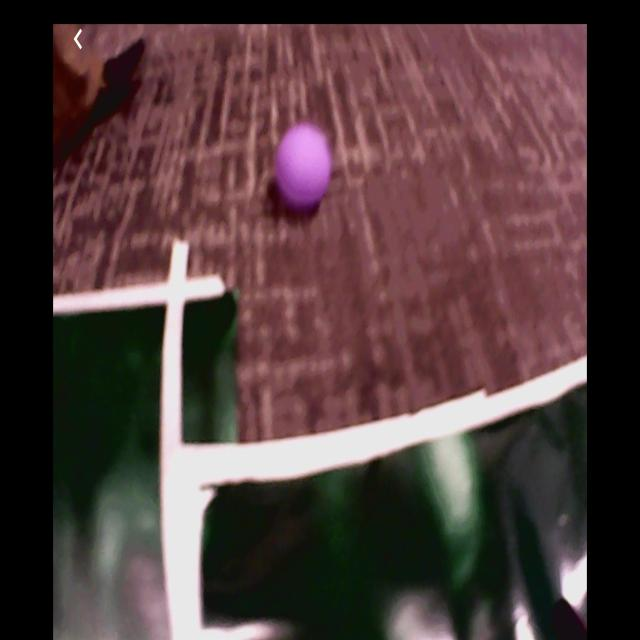ball: (275, 125, 331, 207)
